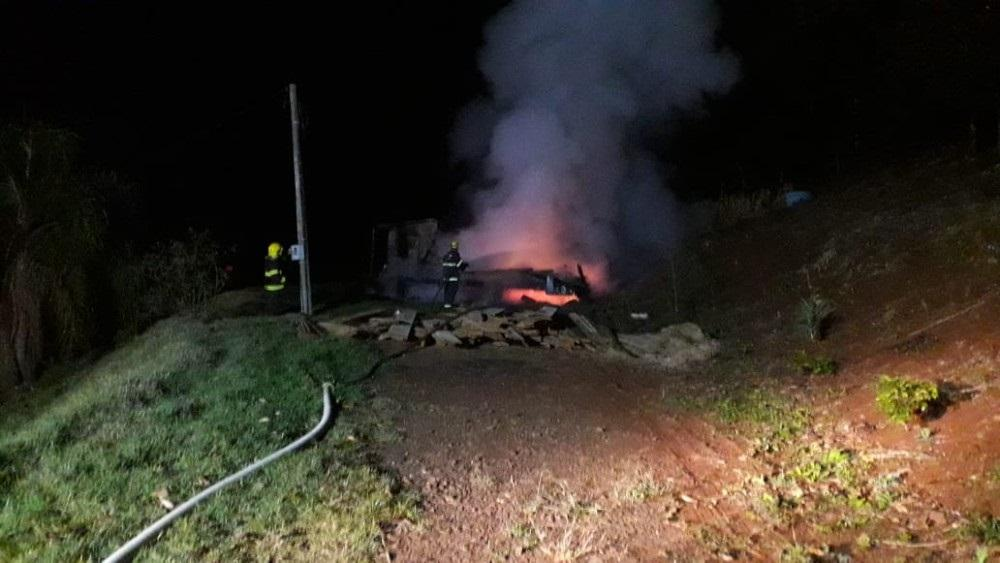fire: (499, 279, 589, 313)
